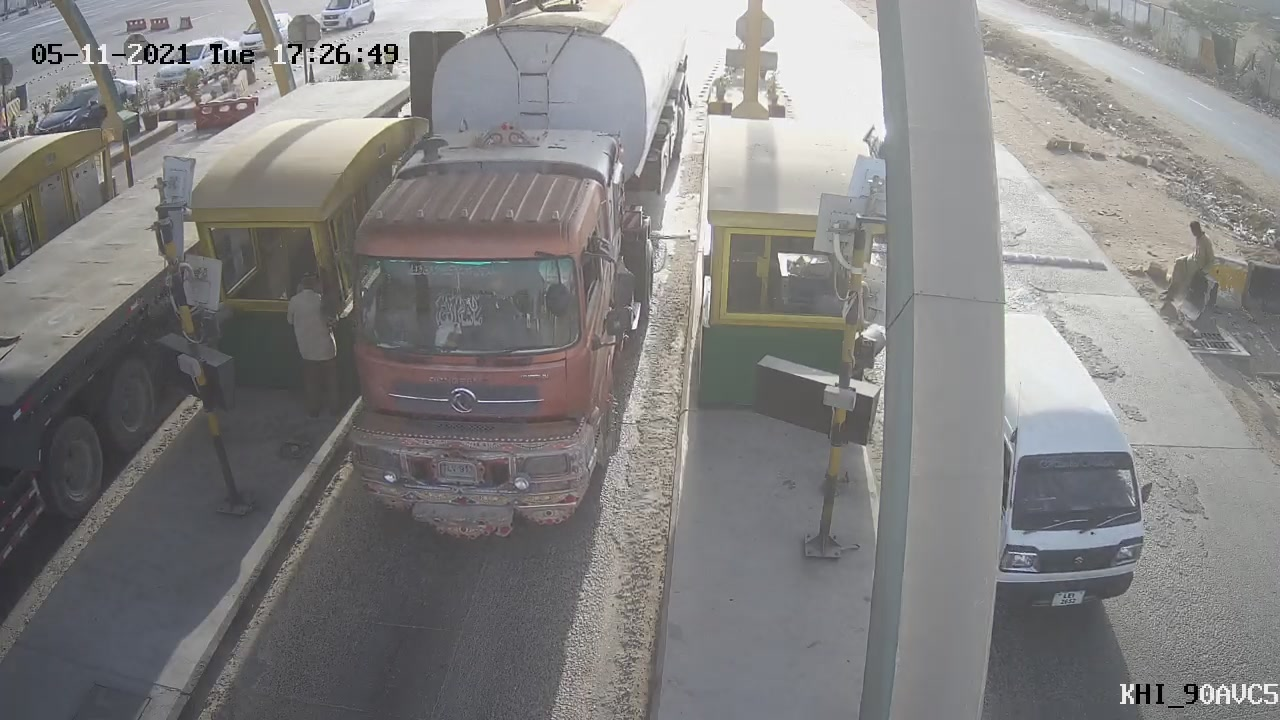F6: (307, 1, 706, 560)
